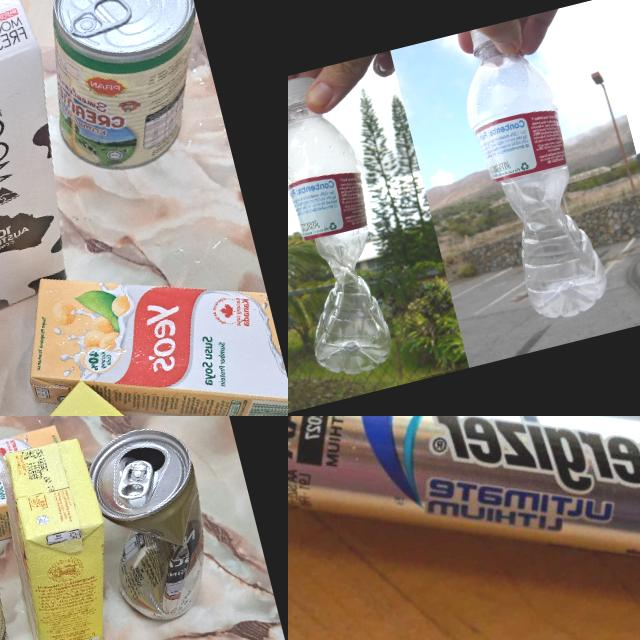aba de lata: (64, 0, 131, 39), (112, 458, 159, 502)
bateria: (288, 416, 640, 640)
caixinha: (5, 225, 288, 416), (0, 0, 98, 346), (0, 436, 128, 640), (0, 353, 226, 416), (0, 422, 79, 569)
garrafa plástica: (448, 29, 614, 330), (288, 93, 408, 382)
lata: (20, 0, 228, 182), (82, 419, 226, 629)
tampa plástica: (288, 72, 325, 117), (466, 24, 496, 57)
